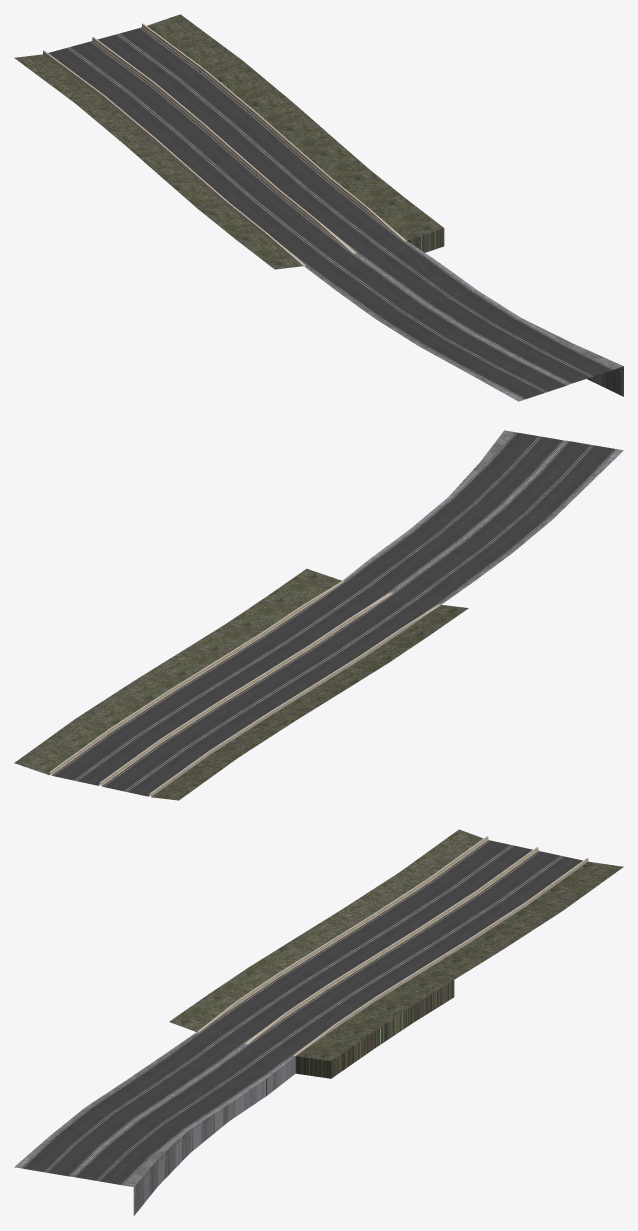
Rendered from cuntwland18_sfs.obj.
The picture shows the model from 3 angles, top to bottom: view 1: azimuth 30°, elevation 25°; view 2: azimuth 150°, elevation 25°; view 3: azimuth 330°, elevation 25°; orthographic projection. The views are drawn at different scales.
Visible parts, largest first — view 1: cuntwland18_SFS; view 2: cuntwland18_SFS; view 3: cuntwland18_SFS.
Part boxes in pixels (x1,y1,x2,y2): cuntwland18_SFS: (14,14,623,401); cuntwland18_SFS: (14,430,623,800); cuntwland18_SFS: (14,829,623,1215).
Bounding box in the file's own units: 48.26 × 7.44 × 214.
Materials: 7 (7 with a texture image).
